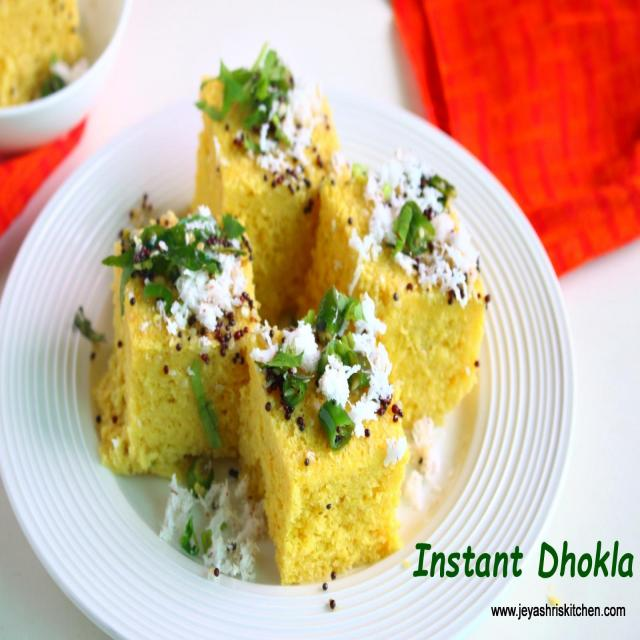dhokla: (116, 57, 484, 558), (0, 0, 89, 89)
